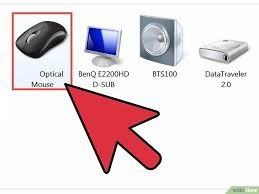mouse: (12, 21, 71, 63)
